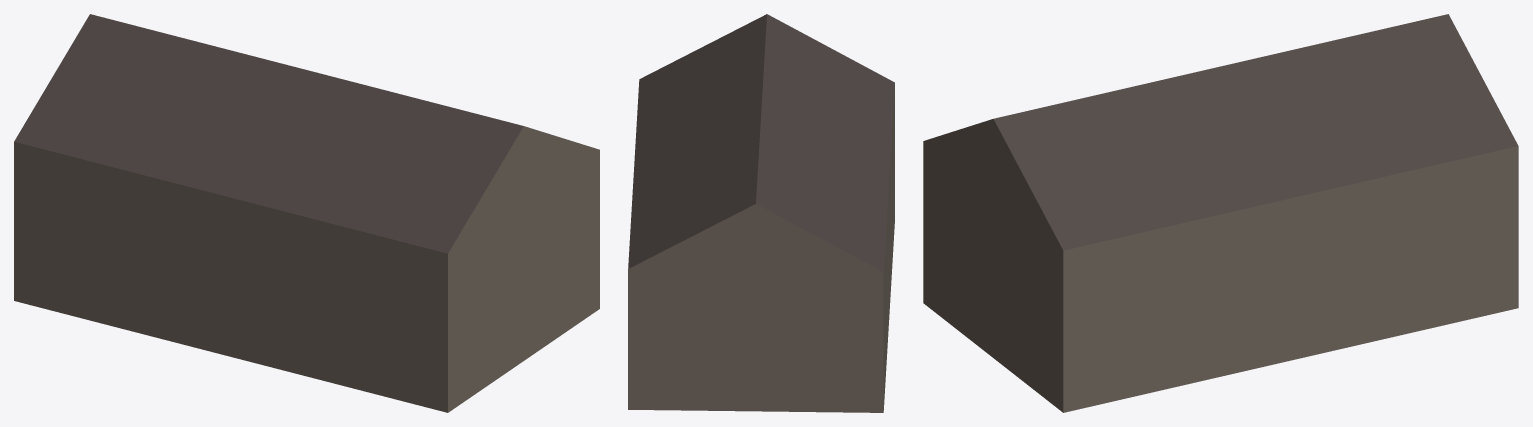
3 views of the same model, side by side, from view 1: azimuth 30°, elevation 25°; view 2: azimuth 150°, elevation 25°; view 3: azimuth 270°, elevation 25° (orthographic). The views are drawn at different scales.
Visible parts, largest first — view 1: HP-w859457432; view 2: HP-w859457432; view 3: HP-w859457432.
Part boxes in pixels (left/top/right/bottom): HP-w859457432: left=14, top=14, right=599, bottom=412; HP-w859457432: left=628, top=14, right=894, bottom=412; HP-w859457432: left=923, top=14, right=1518, bottom=412.
Bounding box in the file's own units: 17.01 × 8.85 × 19.95.
